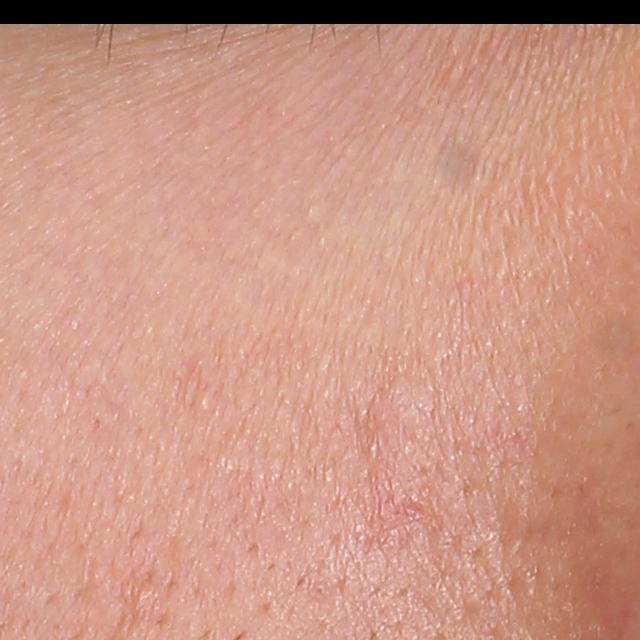comedo: (193, 393, 212, 415)
other: (427, 132, 492, 200)
